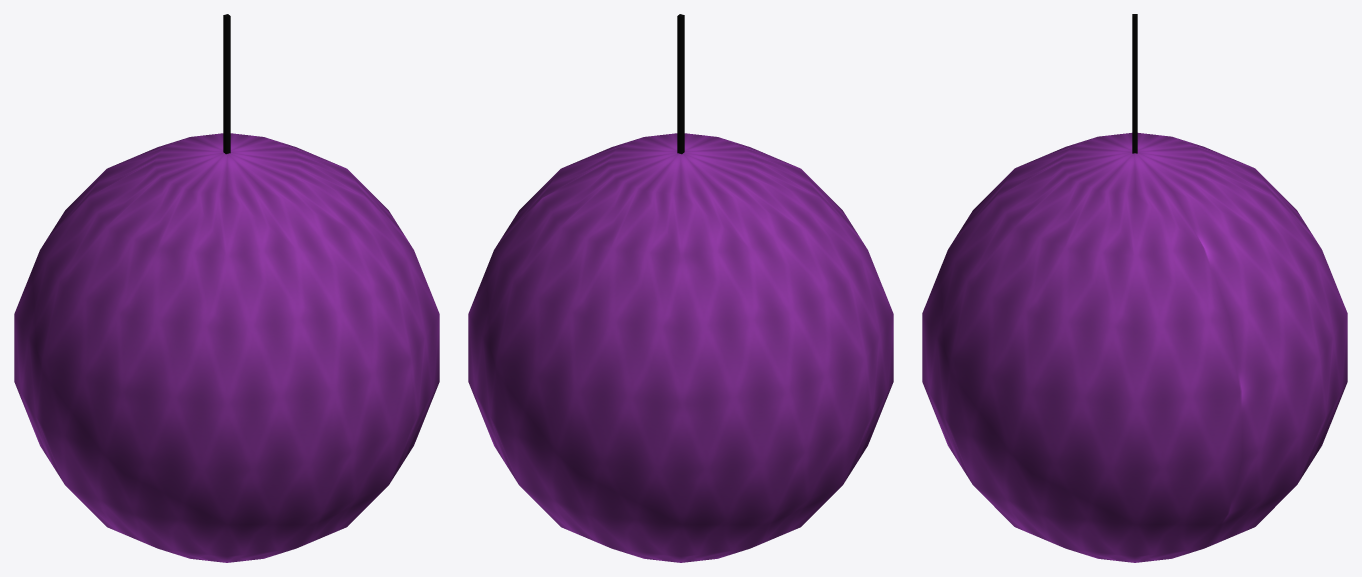
Rendered from HW_HoneyCombPurple.fbx.
The picture shows the model from 3 angles, left to right: view 1: azimuth 30°, elevation 25°; view 2: azimuth 150°, elevation 25°; view 3: azimuth 270°, elevation 25°; orthographic projection.
Visible parts, largest first — view 1: HW_HoneyCombPurple; view 2: HW_HoneyCombPurple; view 3: HW_HoneyCombPurple.
Part boxes in pixels (<box>): HW_HoneyCombPurple: <box>14,14,439,562</box>; HW_HoneyCombPurple: <box>468,14,893,562</box>; HW_HoneyCombPurple: <box>922,14,1347,562</box>.
Bounding box in the file's own units: 0.2166 × 0.2968 × 0.2166.
Materials: 1 (1 with a texture image).
